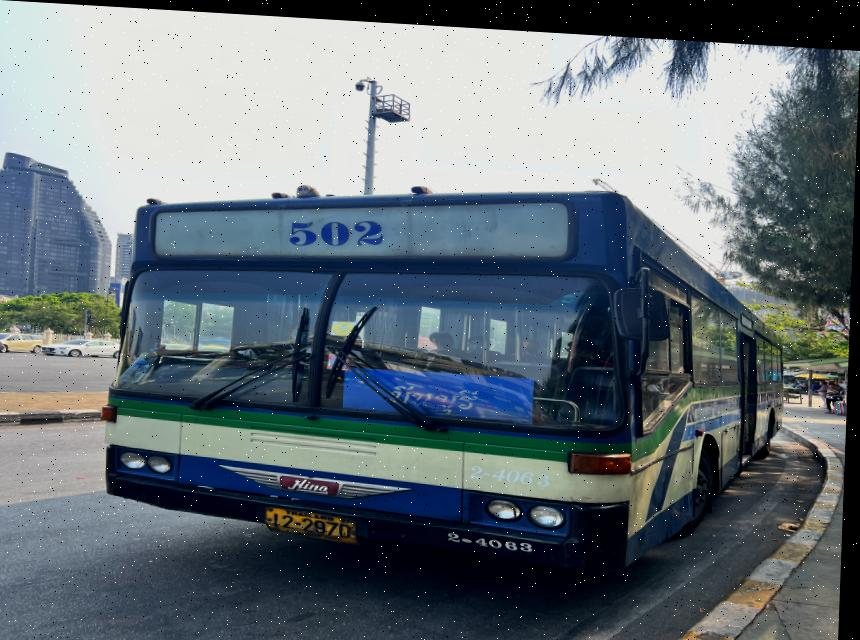BMTA-bus: (107, 178, 786, 568)
Bus Line Number: (280, 208, 396, 245)
Bus Side Number: (433, 522, 546, 551)
Destination Sign: (352, 362, 540, 416)
